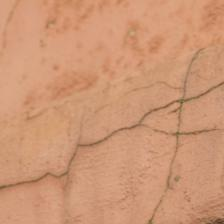Crack: (150, 45, 208, 220), (3, 123, 140, 194), (140, 80, 224, 140)
